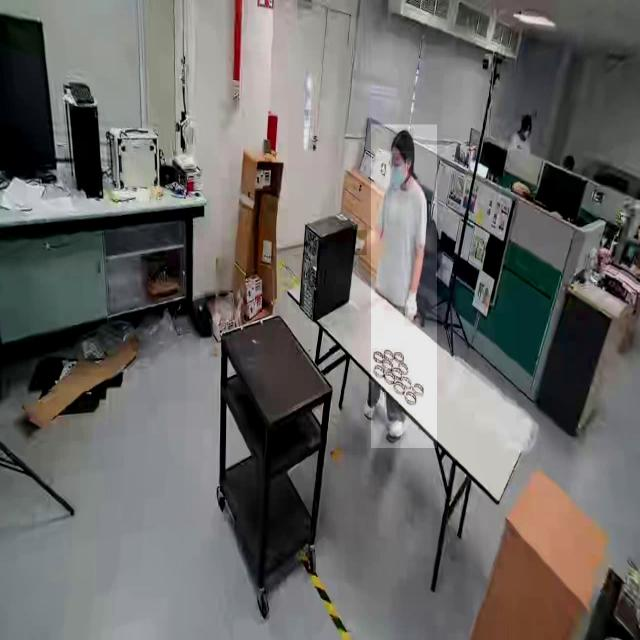face_mask: (390, 153, 406, 190)
hand_glove: (404, 288, 416, 327), (353, 230, 367, 256)
head_nohelmet: (389, 128, 414, 152), (522, 115, 532, 126)
person: (371, 124, 437, 449)
